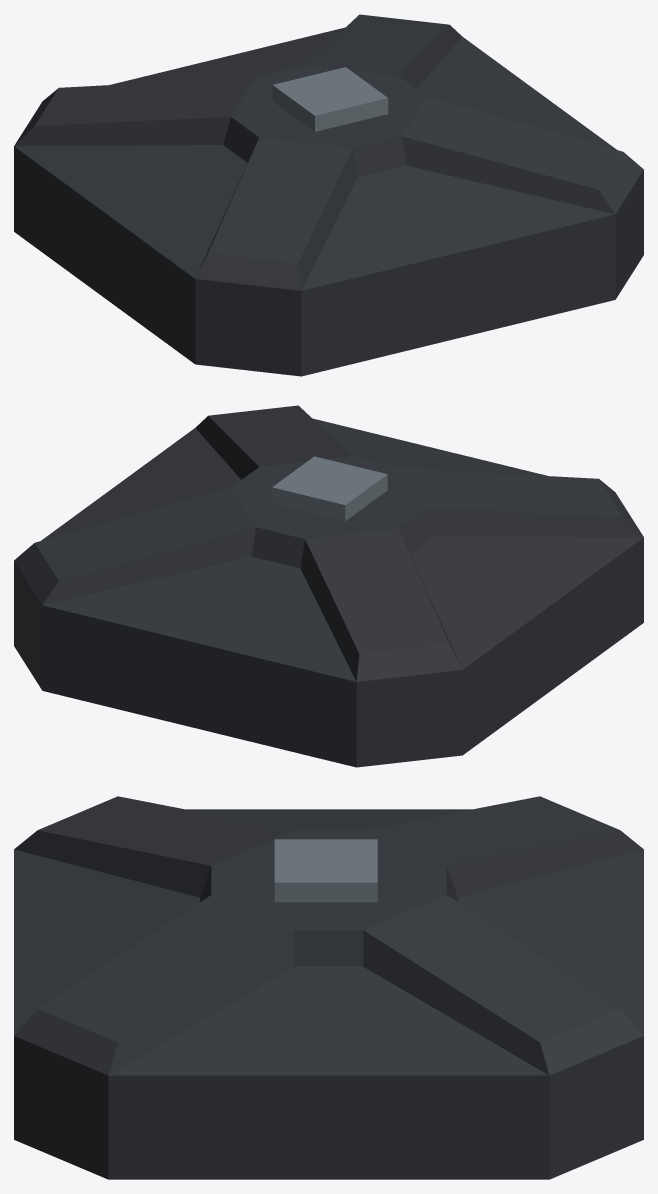
Rendered from SM_Sign_Flag_02.obj.
The picture shows the model from 3 angles, top to bottom: view 1: azimuth 30°, elevation 25°; view 2: azimuth 150°, elevation 25°; view 3: azimuth 270°, elevation 25°; orthographic projection. The views are drawn at different scales.
Parts seen in each view (by area): view 1: SM_Sign_Flag_02_0; view 2: SM_Sign_Flag_02_0; view 3: SM_Sign_Flag_02_0.
Boxes of the visible parts, x1,y1,x2,y2 form: SM_Sign_Flag_02_0: (14, 14, 643, 376); SM_Sign_Flag_02_0: (14, 405, 643, 767); SM_Sign_Flag_02_0: (14, 796, 643, 1179).
Bounding box in the file's own units: 0.5042 × 0.164 × 0.5042.
1 material, 1 textured.
